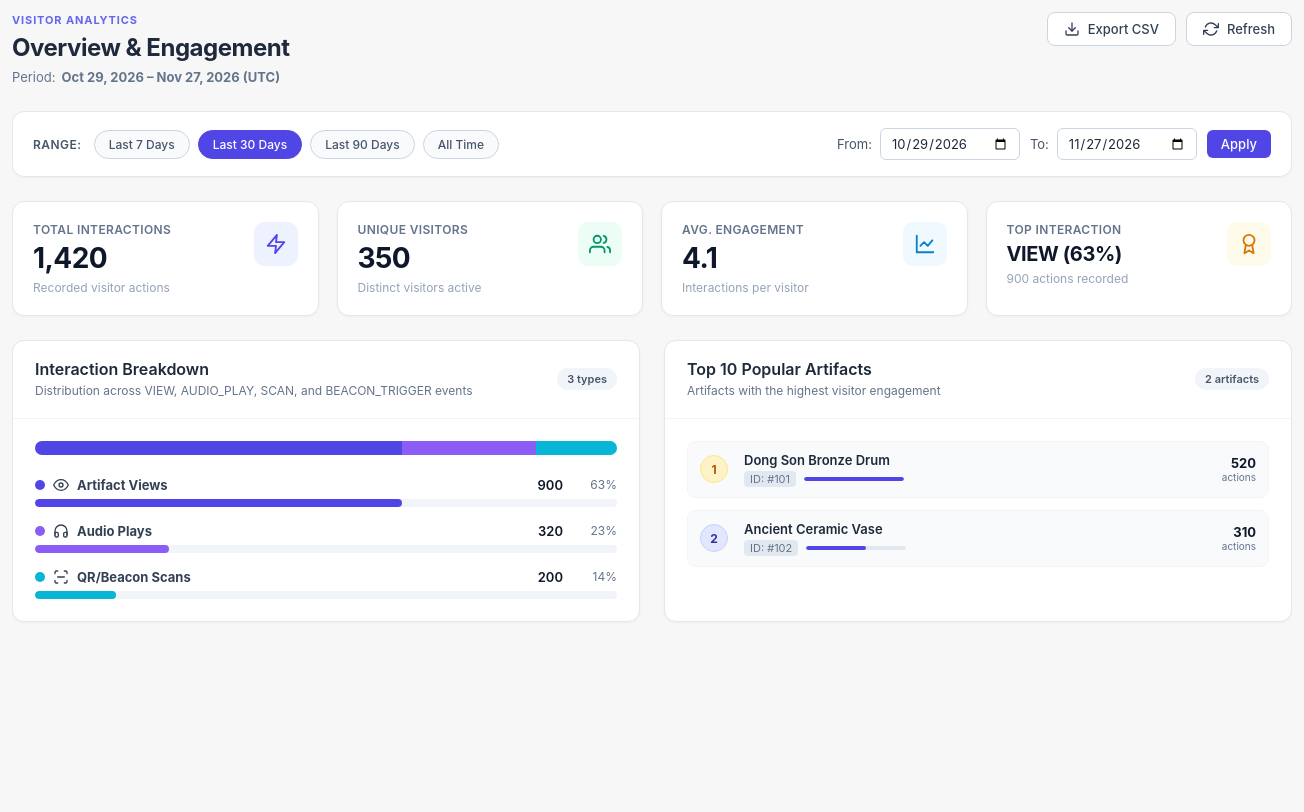
Scenario: DashboardPage — Admin Analytics › Export CSV functionality › displays an error alert and allows dismissing if export fails
The width and height of the screenshot is (1304, 812).
Click the button with aria-label "export analytics summary to csv". click: (1111, 29)
box: [1047,12,1176,46]
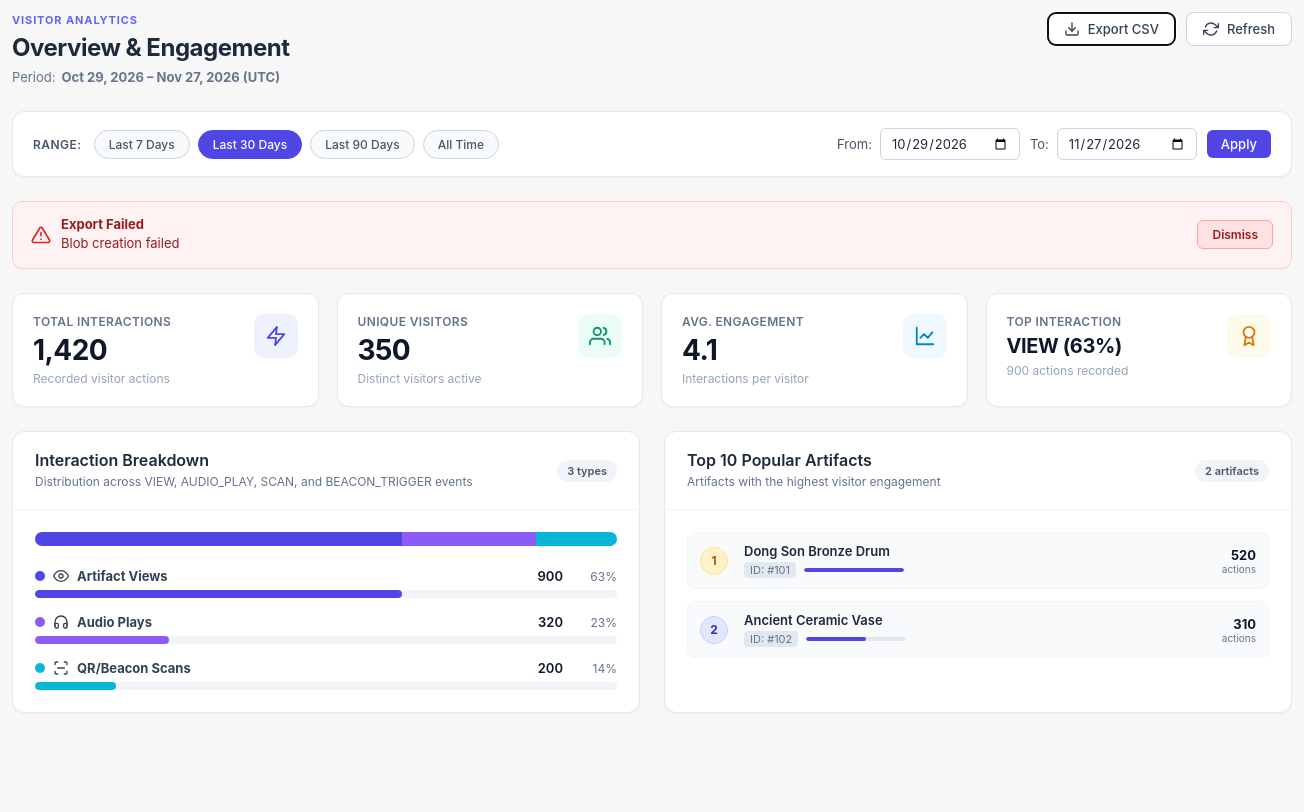
Expected: the text "Export Failed" is shown, [61,216,144,232]
Expected: the text "Blob creation failed" is shown, [61,234,180,254]
Click the button with aria-label "dismiss export error". click: (1235, 235)
box: [1198,220,1273,249]
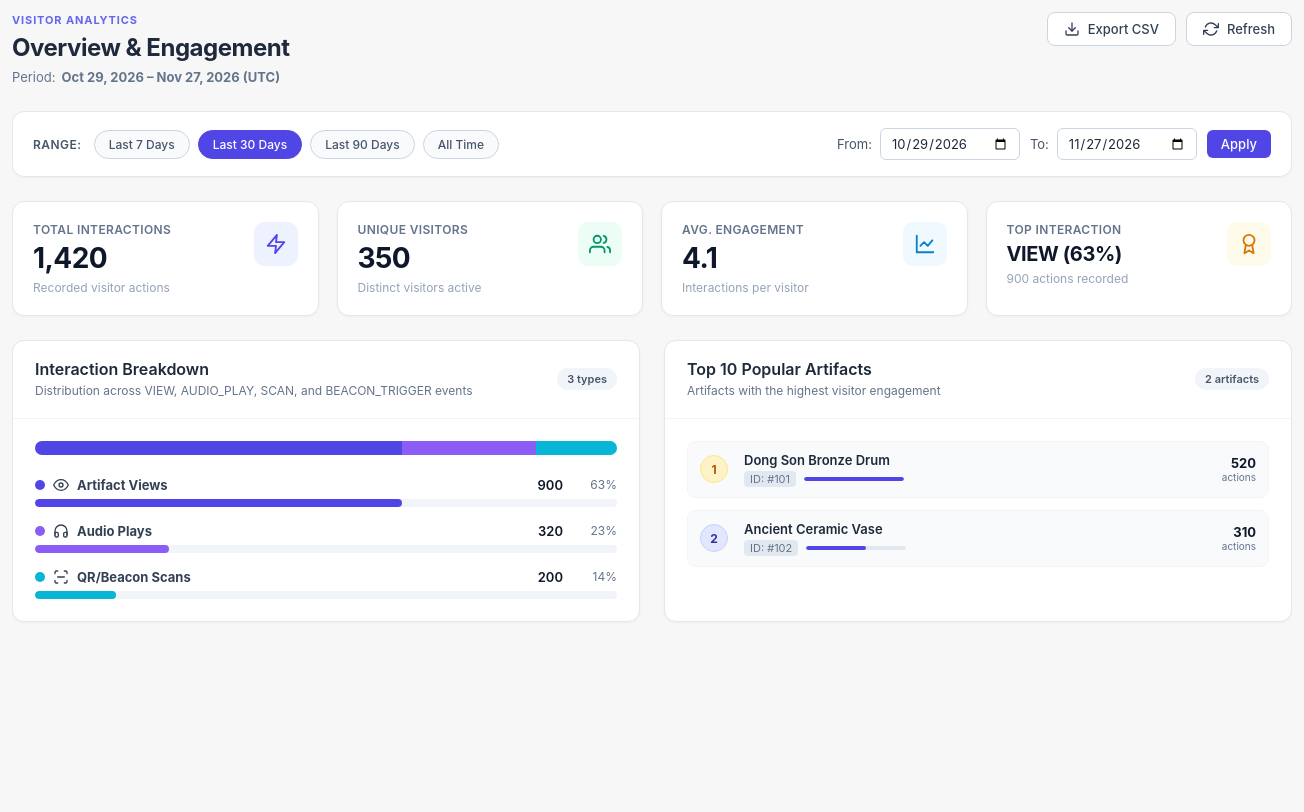
Expected: the text "Export Failed" is gone
